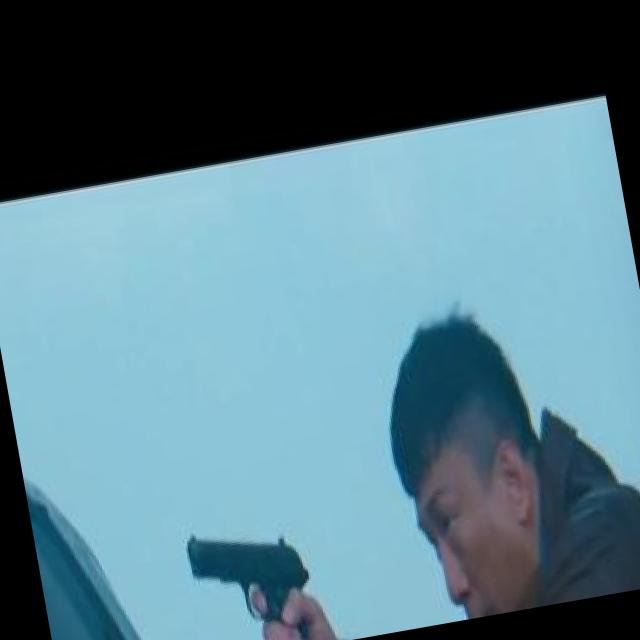Guns: (153, 481, 354, 640)
